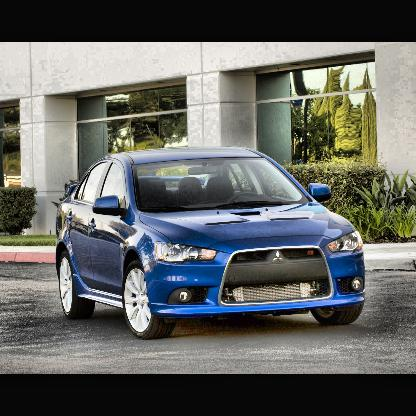Mitsubishi Lancer Sedan 2012: (55, 145, 370, 341)
